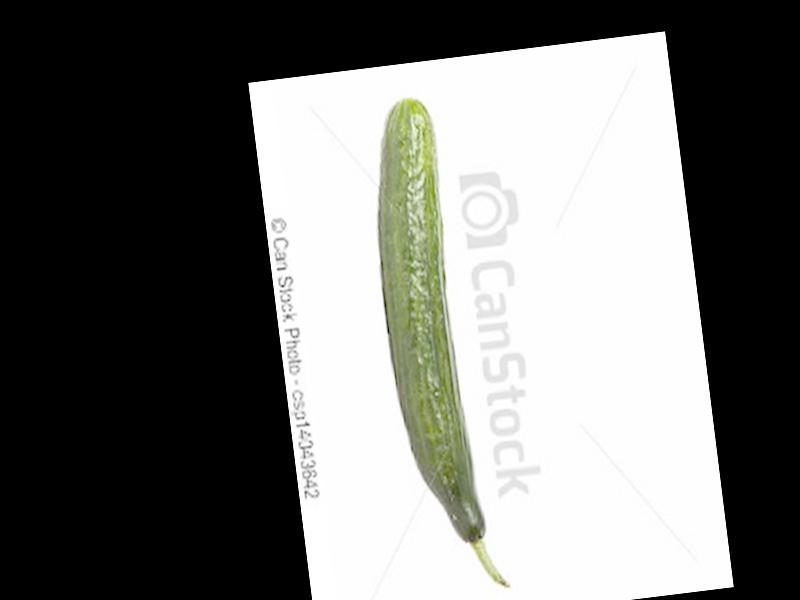Cucumber: (358, 95, 508, 600)
